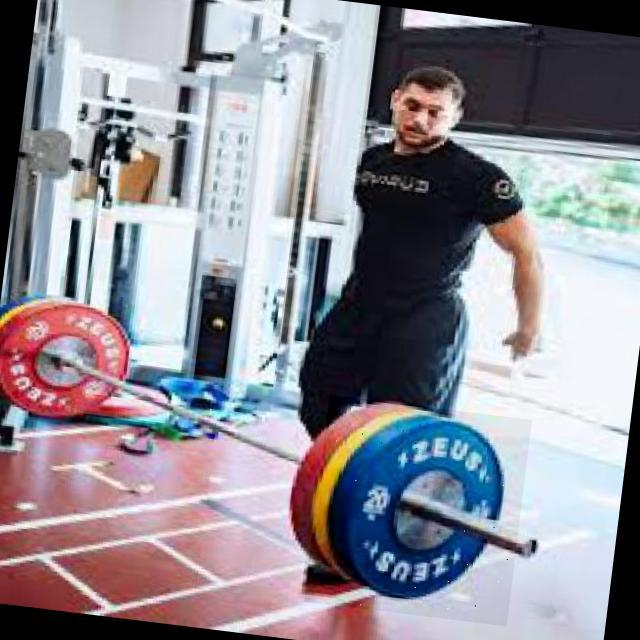barbell: (305, 396, 533, 627)
